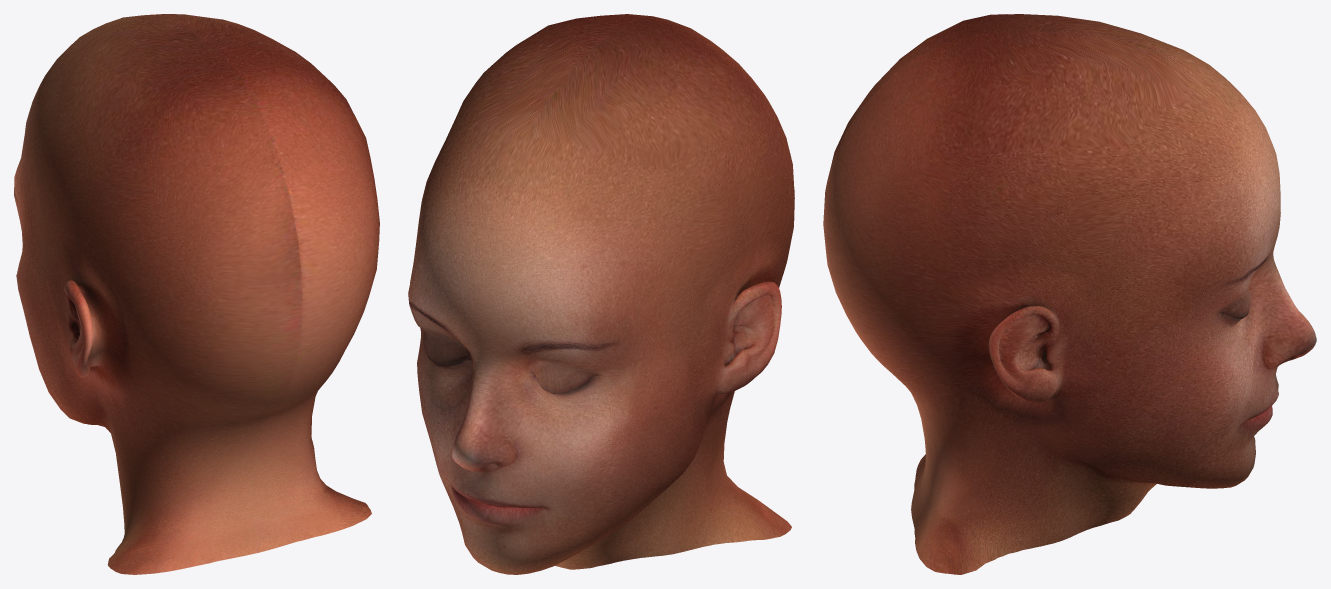
File: July_Head.glb
3 renders of one model, left to right at view 1: azimuth 30°, elevation 25°; view 2: azimuth 150°, elevation 25°; view 3: azimuth 270°, elevation 25°, orthographic. The views are drawn at different scales.
Parts seen in each view (by area): view 1: July_Head; view 2: July_Head; view 3: July_Head.
Boxes of the visible parts, <box> form: July_Head: <box>14,14,379,574</box>; July_Head: <box>408,14,794,574</box>; July_Head: <box>823,14,1316,574</box>.
Bounding box in the file's own units: 0.6568 × 1.05 × 0.9828.
1 material, 1 textured.
